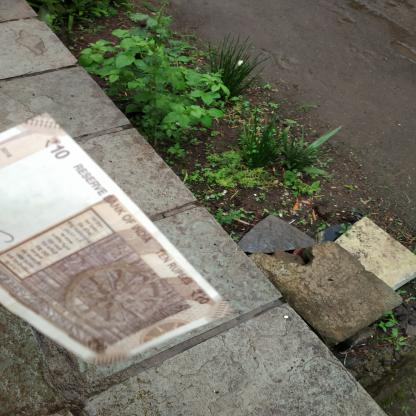New10Back: (0, 114, 216, 358)
